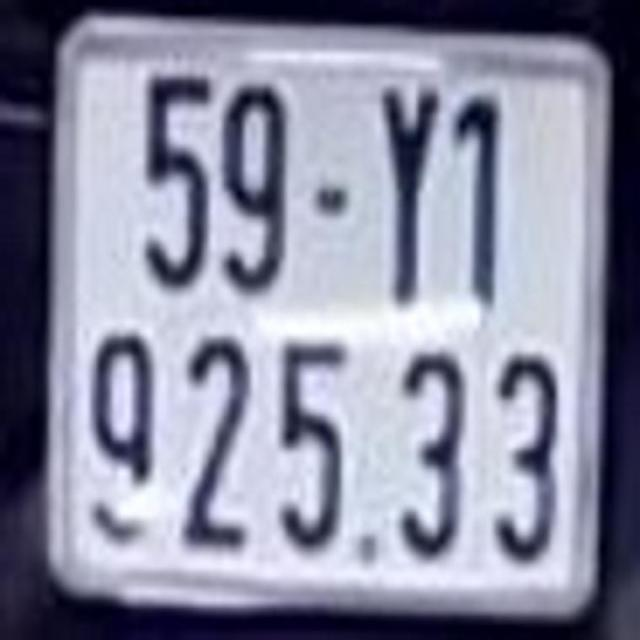1: (450, 95, 510, 324)
2: (184, 334, 252, 548)
3: (402, 350, 465, 558), (502, 351, 558, 564)
5: (143, 65, 211, 281), (280, 332, 348, 543)
9: (222, 83, 294, 295), (90, 332, 157, 538)
Y: (381, 80, 438, 311)
